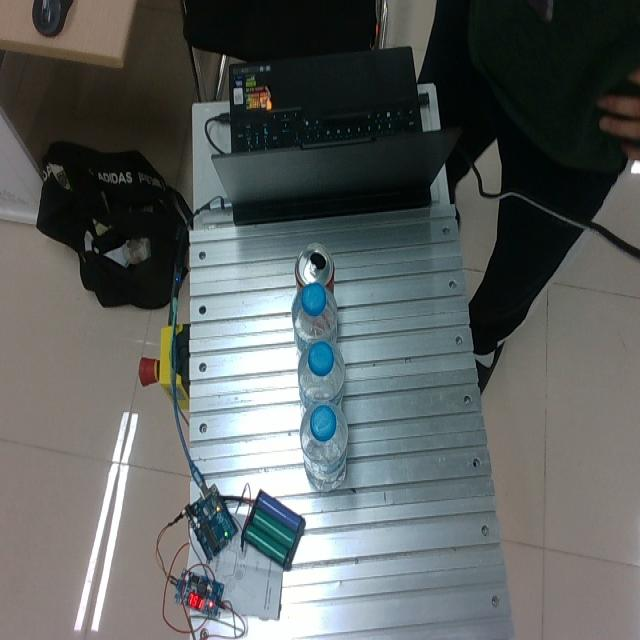coca: (294, 243, 336, 296)
lavie: (299, 399, 349, 489), (297, 338, 346, 406), (291, 283, 339, 352)
